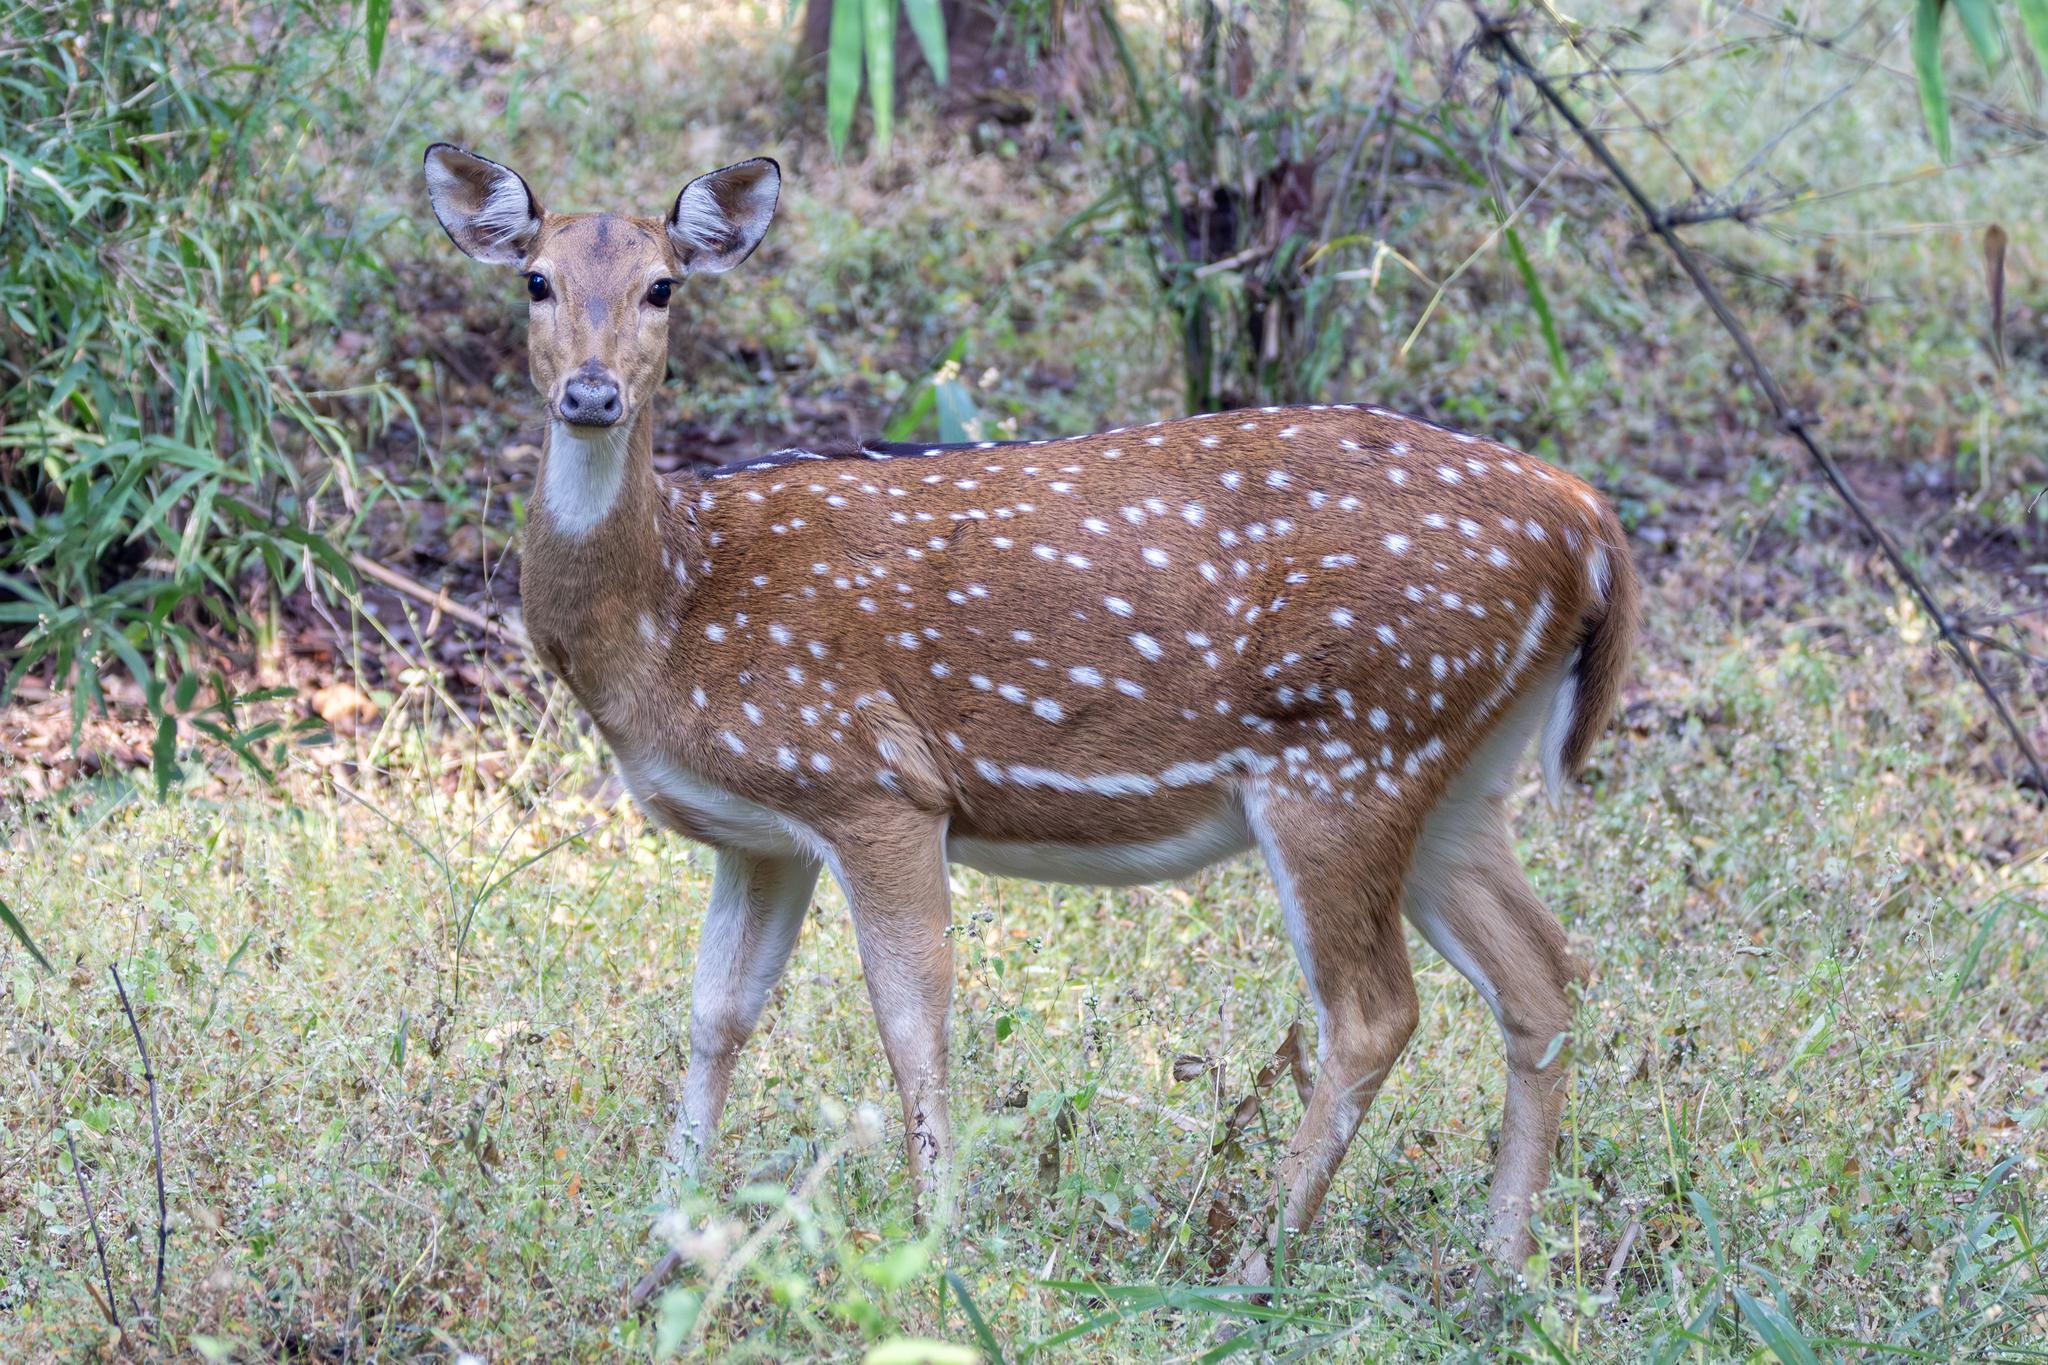Deer: (423, 143, 1638, 1271)
